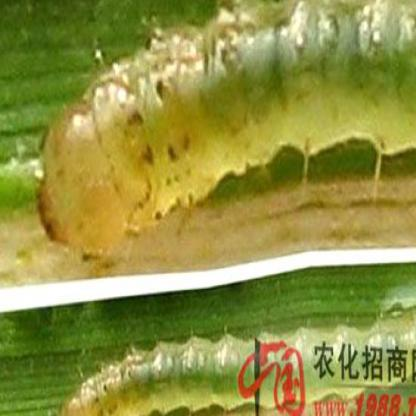leaf-folder: (37, 0, 415, 247), (46, 298, 240, 416)
